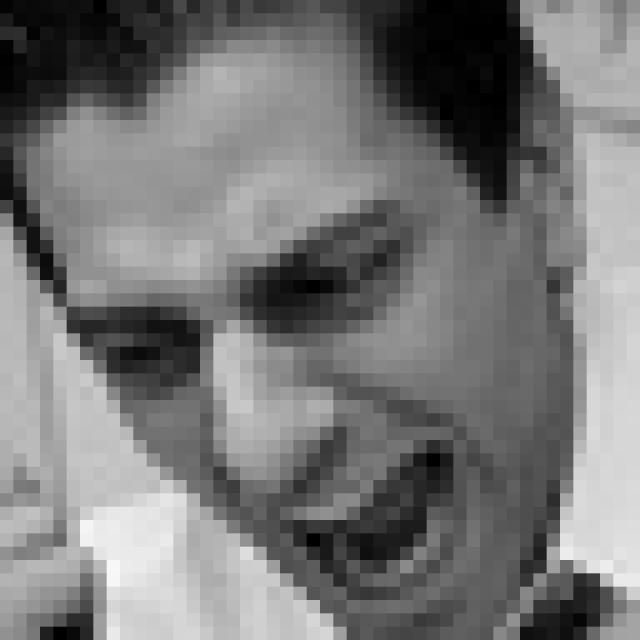angry: (76, 178, 497, 640)
